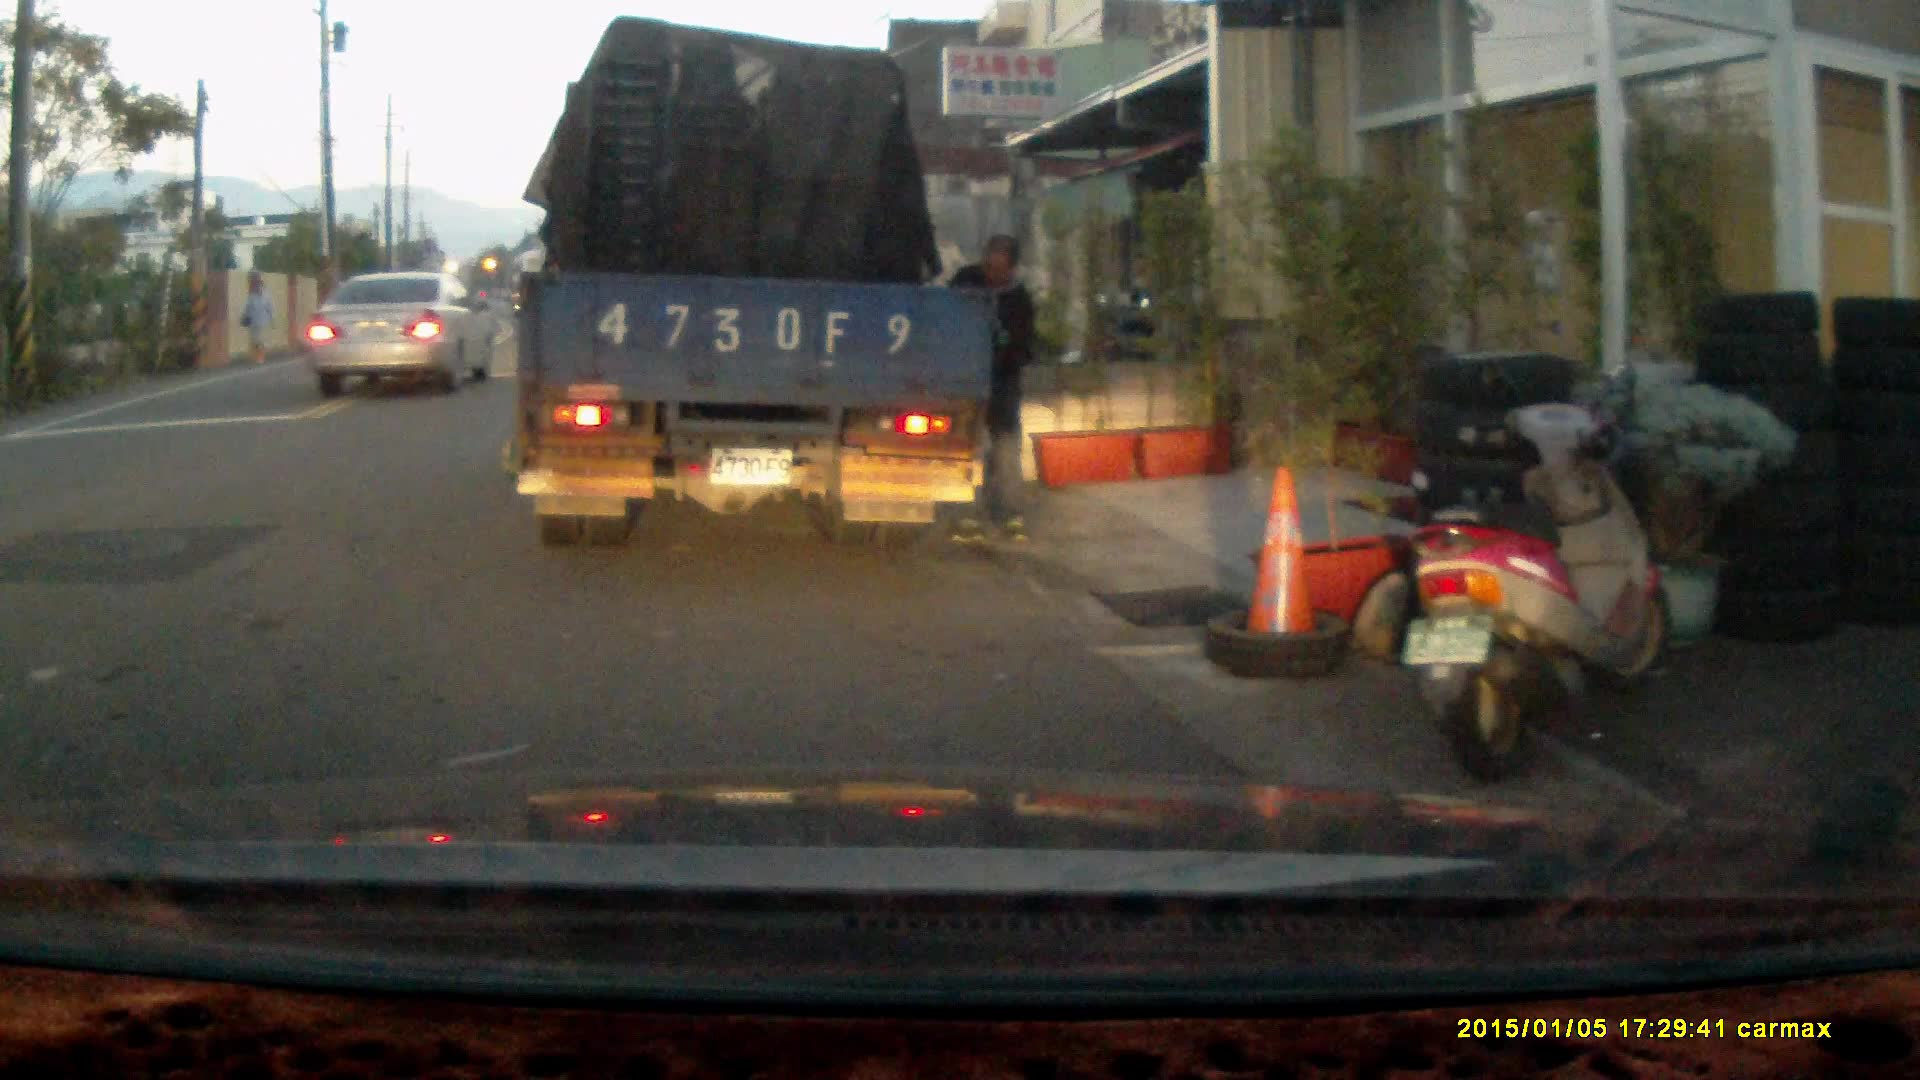pedestrian: (941, 227, 1035, 548), (233, 273, 272, 365)
vehicle: (516, 27, 992, 546), (308, 270, 501, 395)
